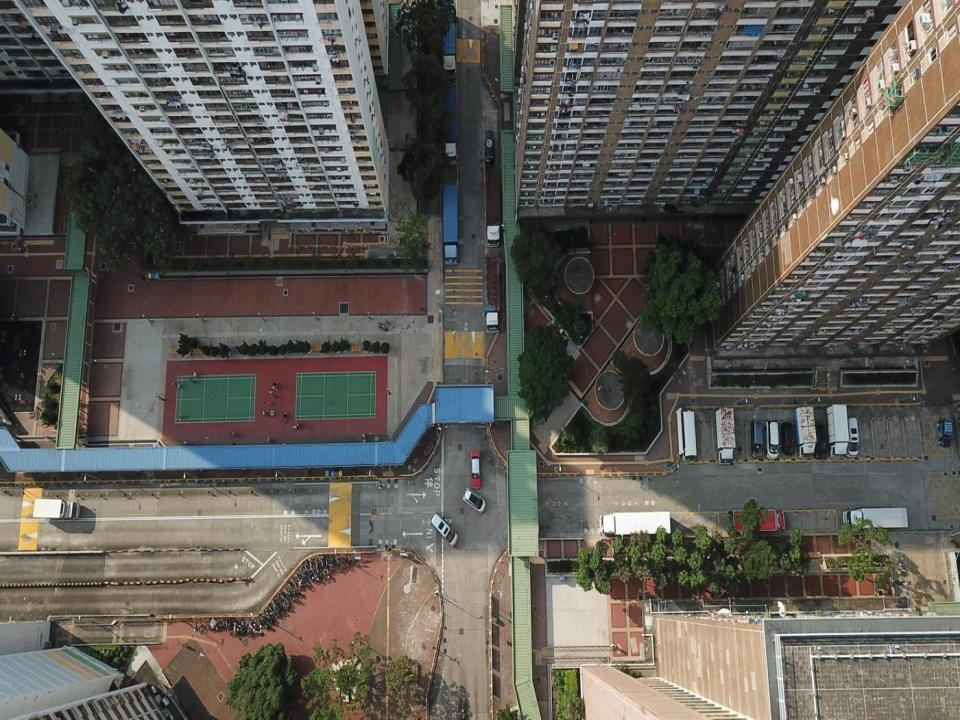bus: (681, 410, 697, 461)
car: (430, 514, 458, 548), (462, 488, 486, 513), (846, 416, 860, 458), (814, 423, 828, 461), (780, 421, 795, 456), (936, 418, 953, 447), (469, 449, 481, 489)
truck: (600, 511, 672, 539), (842, 507, 908, 533), (438, 85, 458, 166), (732, 507, 786, 536), (482, 255, 500, 333), (439, 2, 457, 79), (826, 403, 850, 460), (794, 404, 818, 458), (442, 184, 458, 265), (715, 407, 736, 465), (486, 169, 501, 248), (32, 498, 80, 521)
van: (764, 420, 780, 460), (749, 419, 764, 459), (484, 129, 495, 166)
